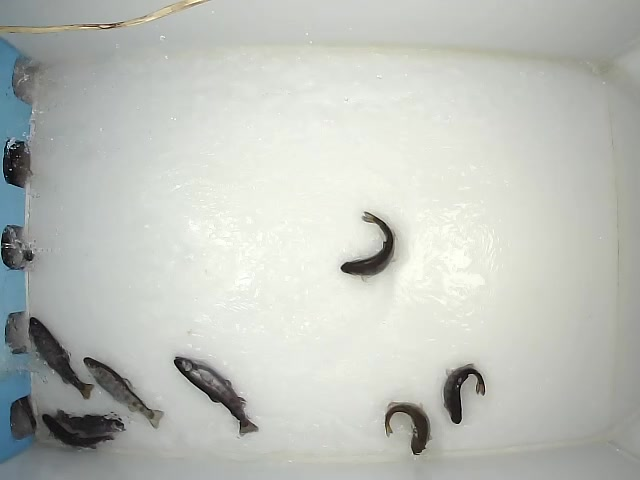fish: (173, 354, 261, 438), (82, 356, 165, 431), (28, 316, 96, 402), (339, 210, 399, 284), (441, 361, 486, 426), (384, 400, 434, 457), (41, 414, 116, 451), (52, 408, 126, 434)
